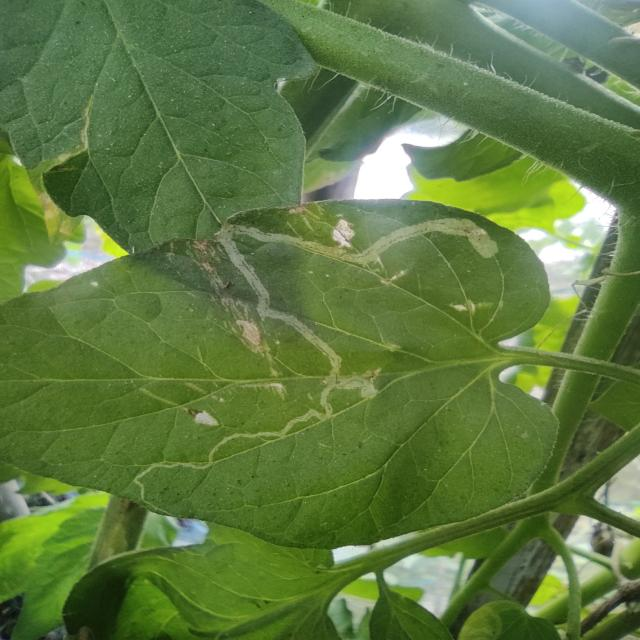Tuta absoluta: (202, 101, 501, 395), (131, 360, 390, 506)
